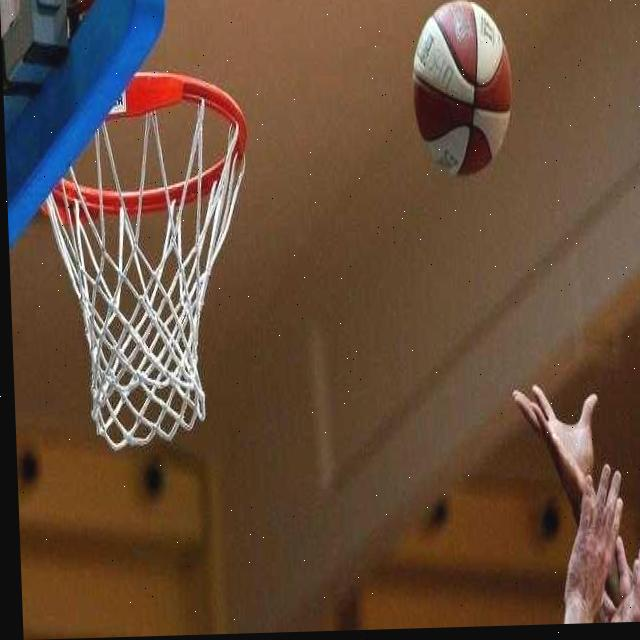basketball: (408, 0, 519, 182)
hoop: (26, 65, 262, 455)
